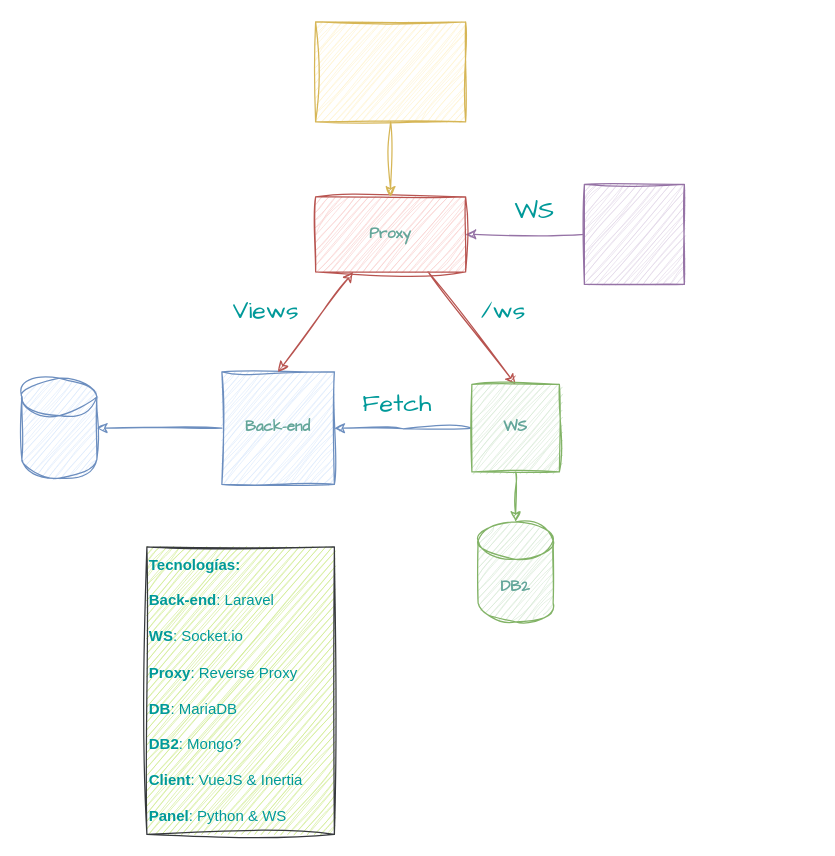
Some shapes in this 835 by 856 pixel diagram are drawn without their labels. Each missing label, with the centre of its shape:
"Client" belongs at (x=390, y=71).
"DB" belongs at (x=59, y=427).
"Panel" belongs at (x=633, y=233).
